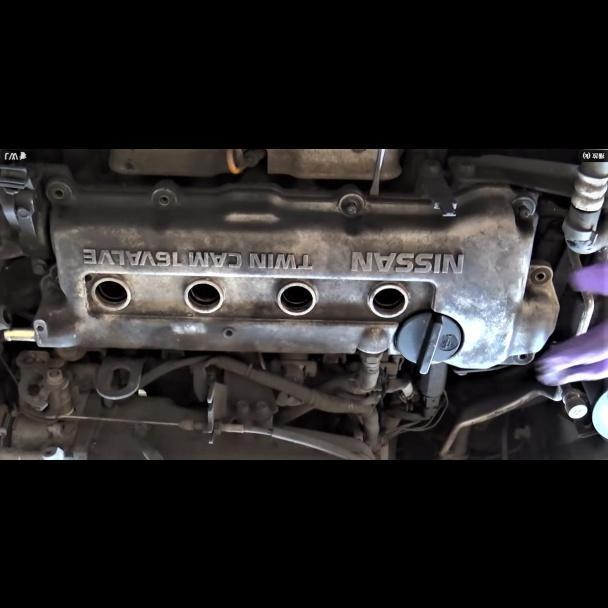hole: (156, 193, 170, 205), (52, 187, 64, 198), (222, 327, 234, 337), (534, 270, 545, 280), (518, 351, 526, 359)
